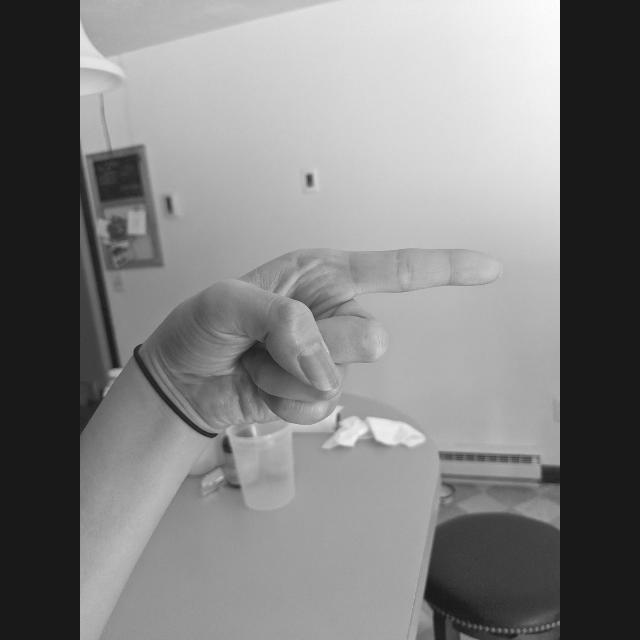G: (148, 242, 507, 438)
